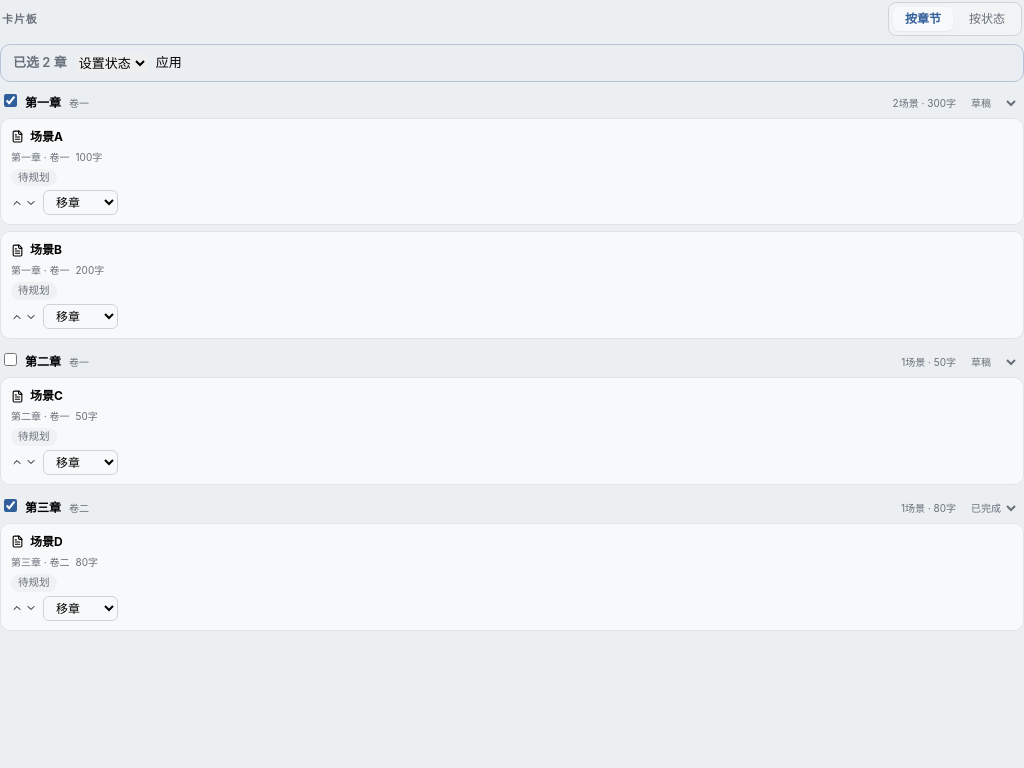
it: CardBoard 编辑能力 › 批量状态：命令抛错时对话框保留并显示错误
Select "已完成" in the dropdown named "批量状态" at [111, 63], box [75,54,148,72]
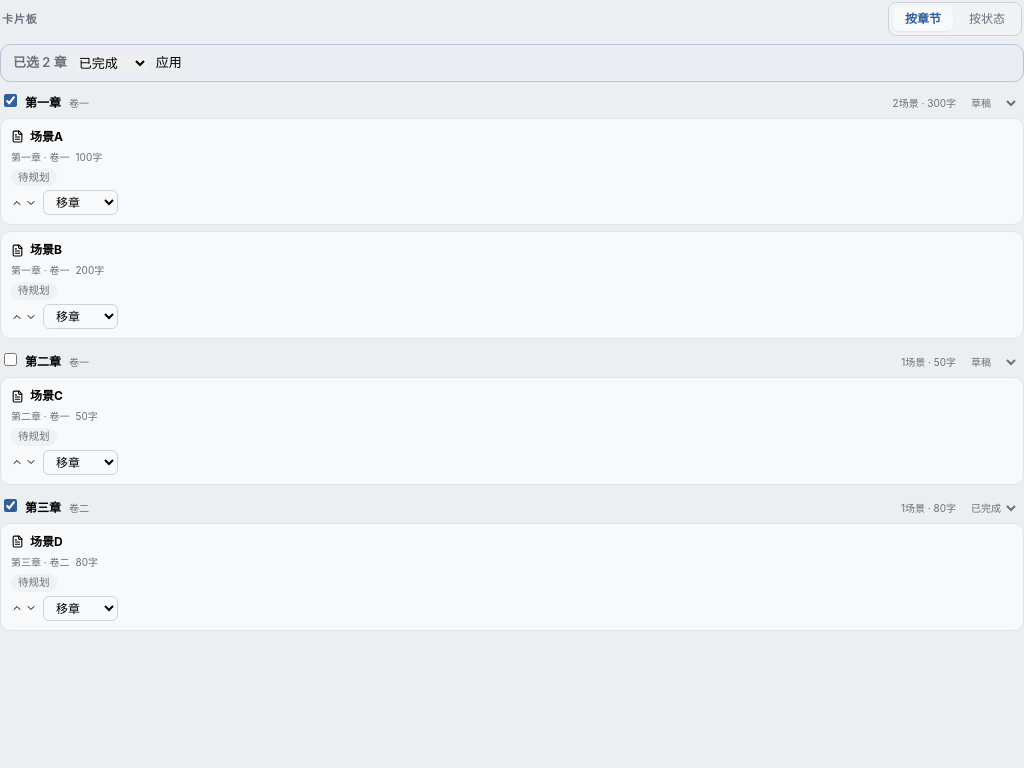
Click the button "应用".
click(169, 63)  # box [156,53,182,72]
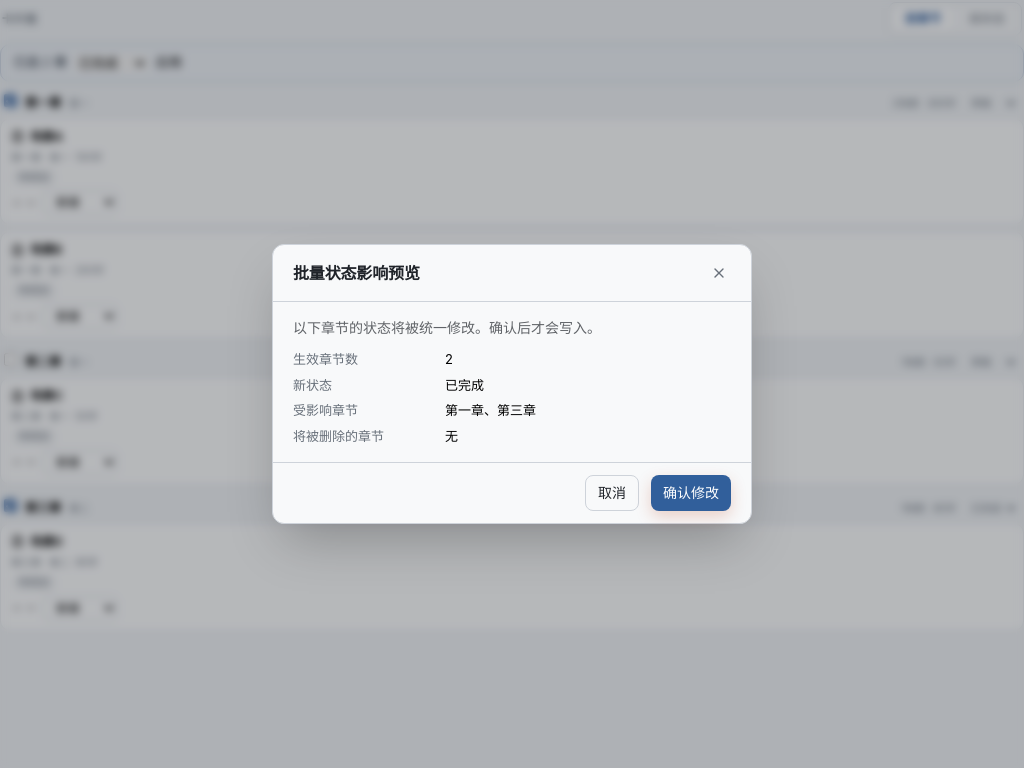
Click the button "确认修改".
click(691, 493)  # box [651,475,731,511]
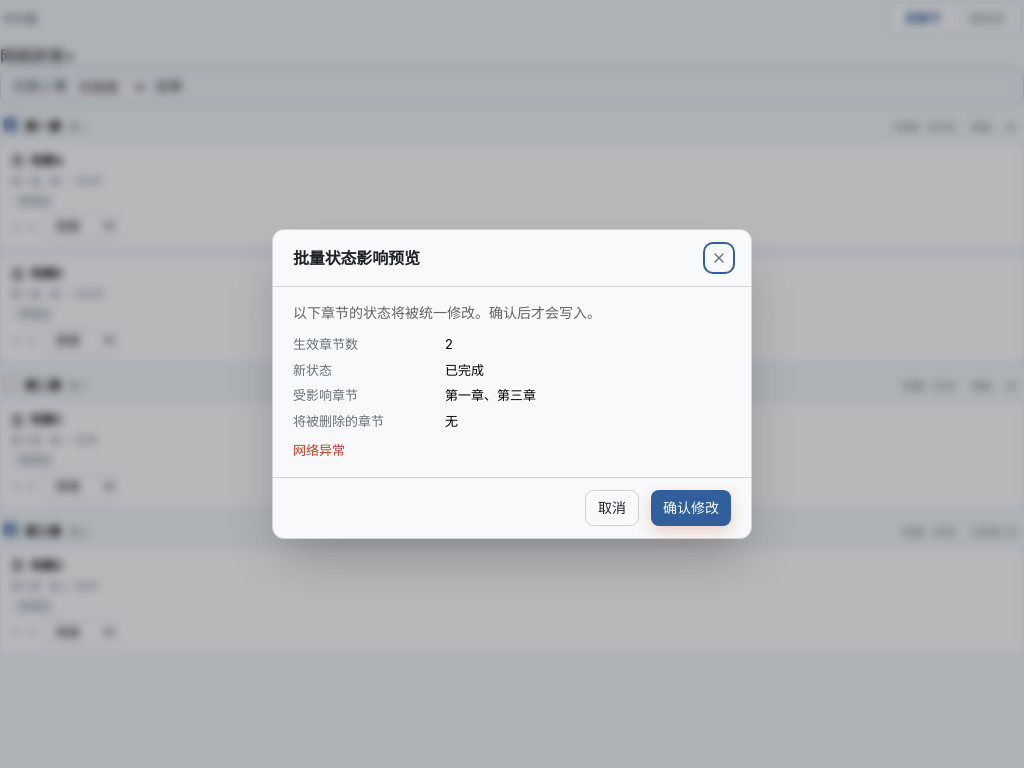
Now the dialog is shown
Now the text "网络异常" is shown, box [0,46,64,66]
